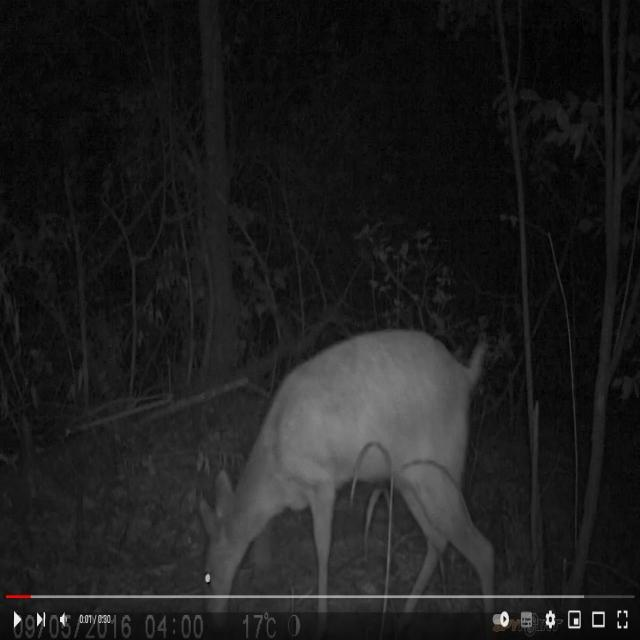elk: (148, 298, 533, 640)
